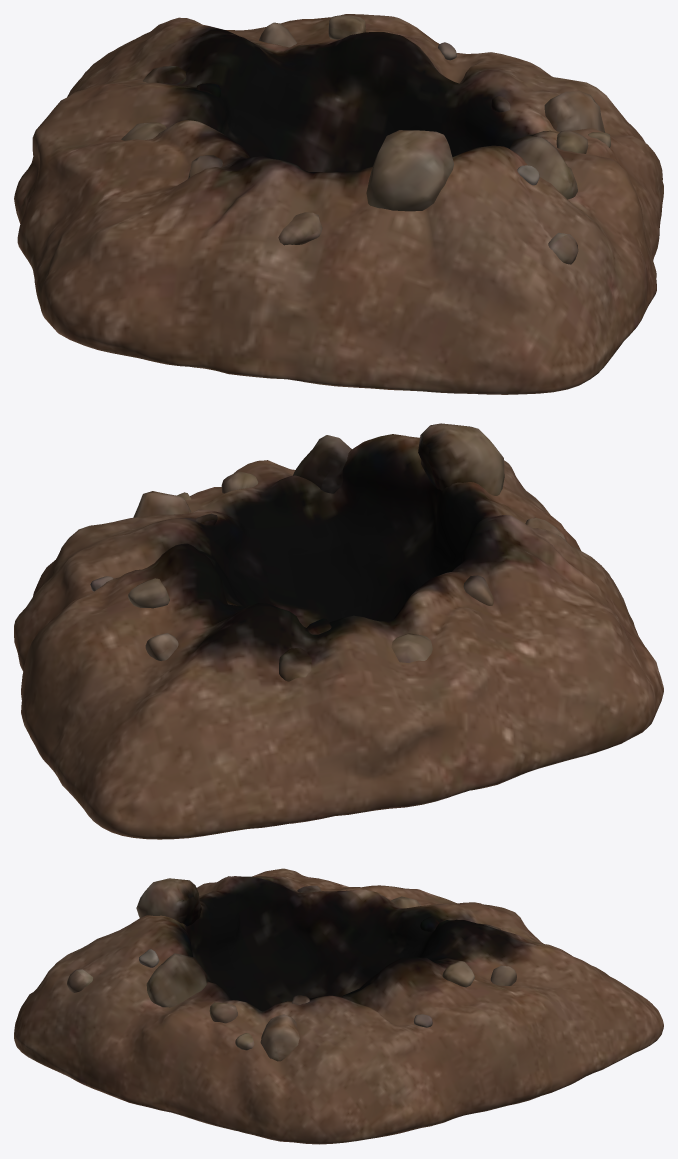
Rendered from SM_MeteorFell_4a793b.glb.
3 views of the same model, one above another, from view 1: azimuth 30°, elevation 25°; view 2: azimuth 150°, elevation 25°; view 3: azimuth 270°, elevation 25° (orthographic). The views are drawn at different scales.
Bounding box in the file's own units: 8.03 × 2.46 × 9.83.
1 material, 1 textured.
